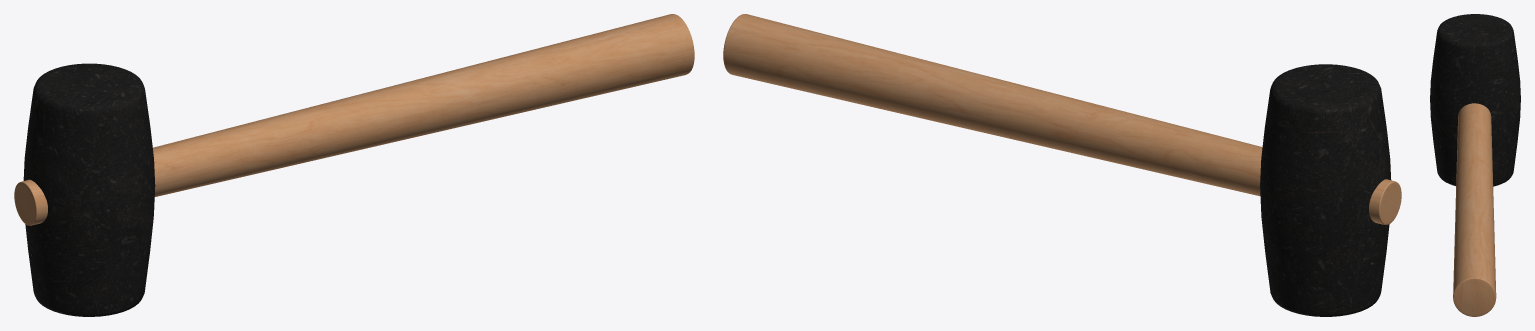
The model's file is mallet_hammer.glb.
3 views of the same model, side by side, from view 1: azimuth 30°, elevation 25°; view 2: azimuth 150°, elevation 25°; view 3: azimuth 270°, elevation 25° (orthographic). The views are drawn at different scales.
Visible parts, largest first — view 1: mallet_hammer; view 2: mallet_hammer; view 3: mallet_hammer.
Part boxes in pixels (bbox=[...]): mallet_hammer: bbox=[14, 14, 694, 316]; mallet_hammer: bbox=[723, 14, 1401, 316]; mallet_hammer: bbox=[1430, 14, 1520, 316].
Size of the model in its own units: 0.6662 by 0.2039 by 0.1161.
1 material, 1 textured.
